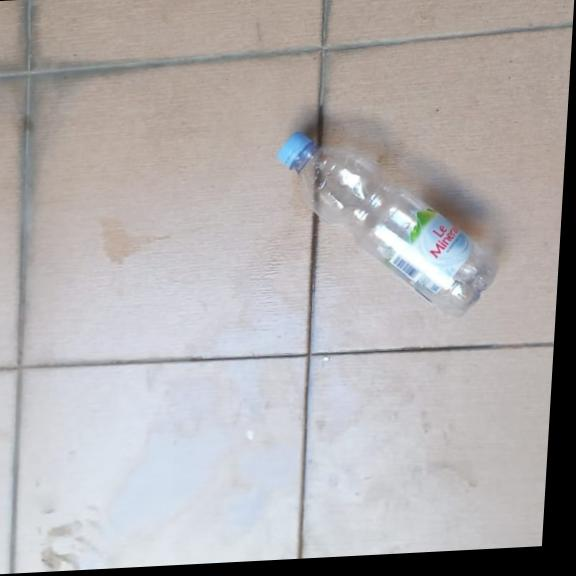Plastik: (268, 120, 508, 325)
